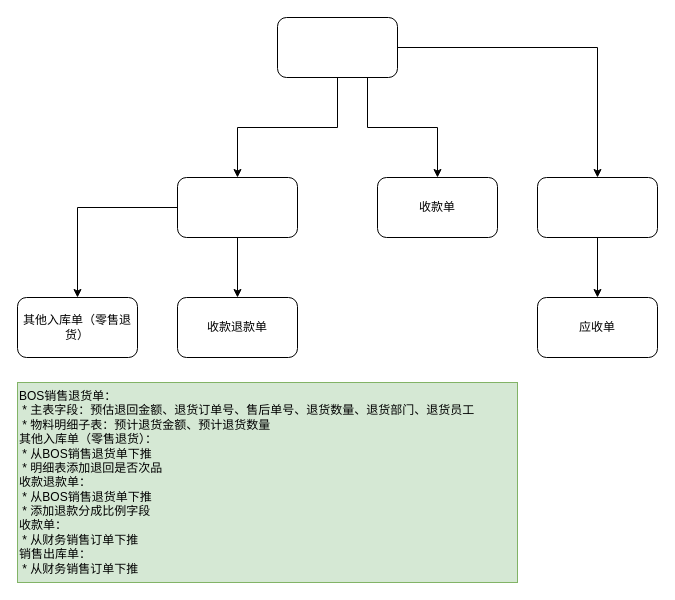
Some shapes in this 675 by 600 pixel diagram are drawn without their labels. Each missing label, with the centre of its shape:
BOS销售退货单: the point at 237,207
财务销售订单: the point at 337,47
销售出库单: the point at 597,207
